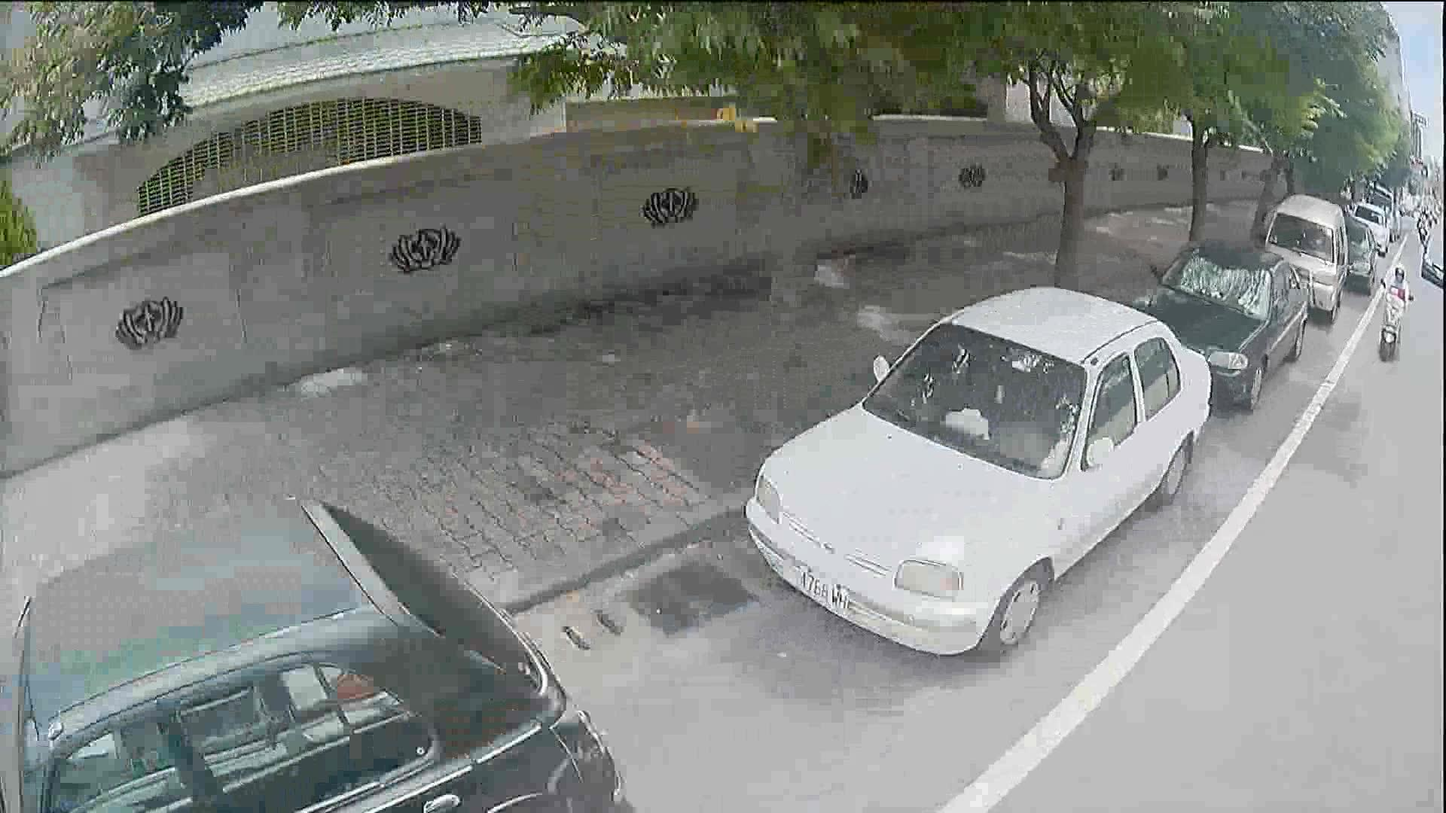person: (1385, 266, 1408, 295)
